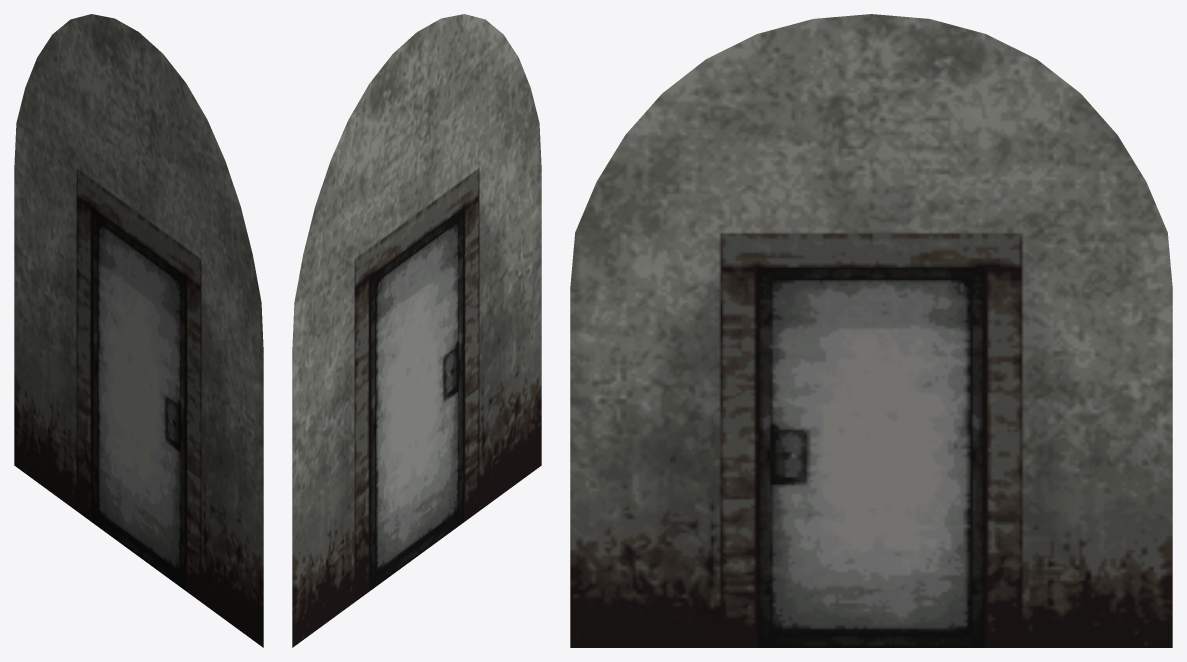
Rendered from SM_EC_ConcreteTunnel_DoorWay_Card_0.fbx.
The picture shows the model from 3 angles, left to right: view 1: azimuth 30°, elevation 25°; view 2: azimuth 150°, elevation 25°; view 3: azimuth 270°, elevation 25°; orthographic projection. The views are drawn at different scales.
Visible parts, largest first — view 1: SM_EC_ConcreteTunnel_DoorWay_Card_0; view 2: SM_EC_ConcreteTunnel_DoorWay_Card_0; view 3: SM_EC_ConcreteTunnel_DoorWay_Card_0.
Boxes of the visible parts, x1,y1,x2,y2 form: SM_EC_ConcreteTunnel_DoorWay_Card_0: [14, 14, 263, 647]; SM_EC_ConcreteTunnel_DoorWay_Card_0: [292, 14, 541, 647]; SM_EC_ConcreteTunnel_DoorWay_Card_0: [570, 14, 1172, 647].
Size of the model in its own units: 9.78e-07 by 3 by 3.48.
